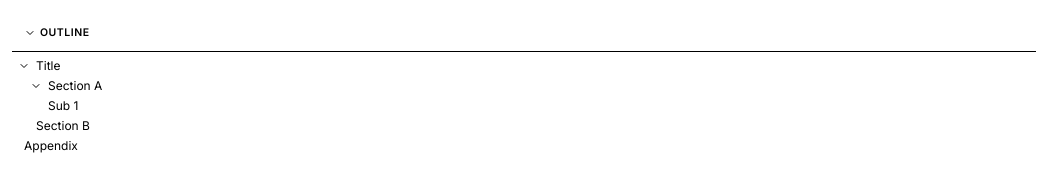
Test: OutlinePanel › clicking a parent chevron toggles its children
Expected: the button "Section A" is shown, [44,76,1036,96]
Click the button named "Toggle Title": (24, 66) [16,58,32,74]
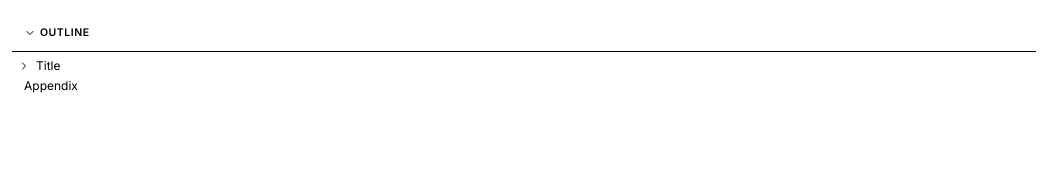
Result: the button "Section A" is gone
Click the button named "Toggle Title": (24, 66) [16,58,32,74]
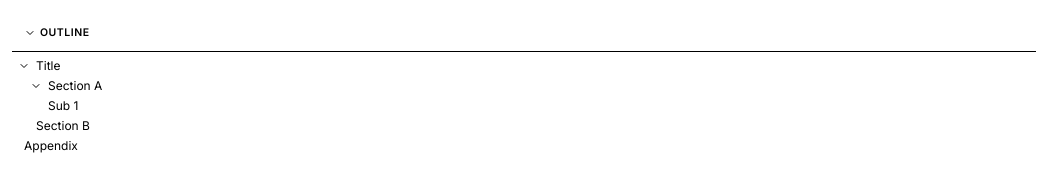
Result: the button "Section A" is shown at [44,76,1036,96]
